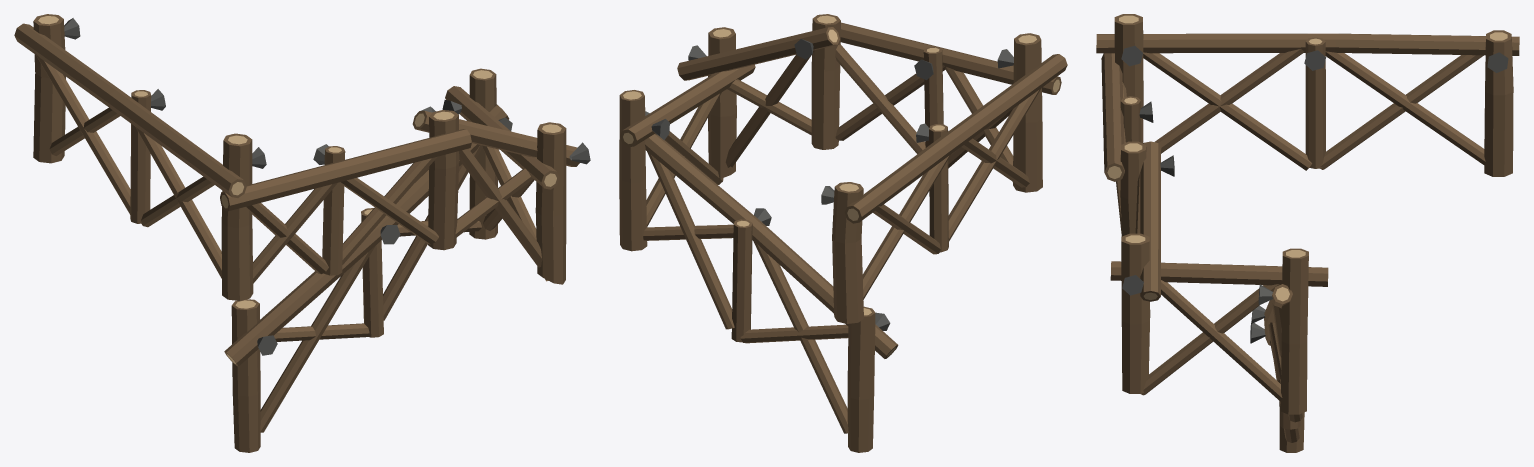
Rendered from rpgpp_ag_stairs_interior_02d_3m_handrail_01.fbx.
3 views of the same model, side by side, from view 1: azimuth 30°, elevation 25°; view 2: azimuth 150°, elevation 25°; view 3: azimuth 270°, elevation 25° (orthographic). The views are drawn at different scales.
Visible parts, largest first — view 1: rpgpp_ag_stairs_interior_02d_3m_handrail_01; view 2: rpgpp_ag_stairs_interior_02d_3m_handrail_01; view 3: rpgpp_ag_stairs_interior_02d_3m_handrail_01.
Part boxes in pixels (x1,y1,x2,y2): rpgpp_ag_stairs_interior_02d_3m_handrail_01: [14, 14, 590, 452]; rpgpp_ag_stairs_interior_02d_3m_handrail_01: [619, 14, 1067, 452]; rpgpp_ag_stairs_interior_02d_3m_handrail_01: [1096, 14, 1519, 452].
Bounding box in the file's own units: 4.49 × 4.4 × 4.4.
